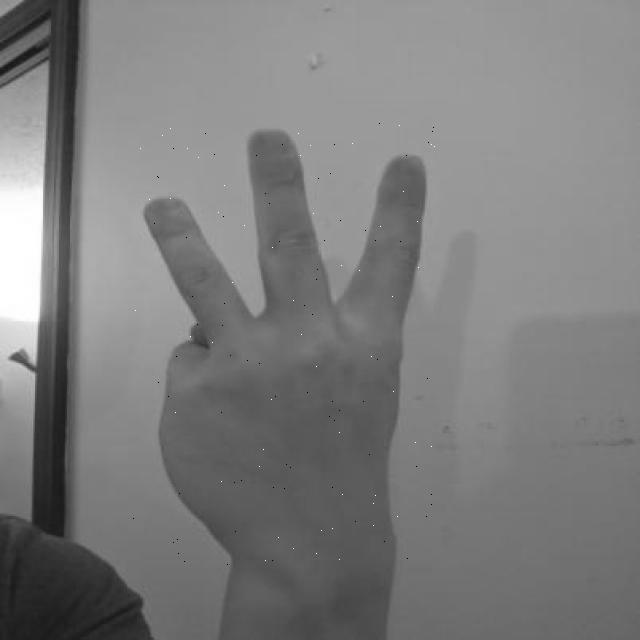W: (132, 118, 438, 568)
